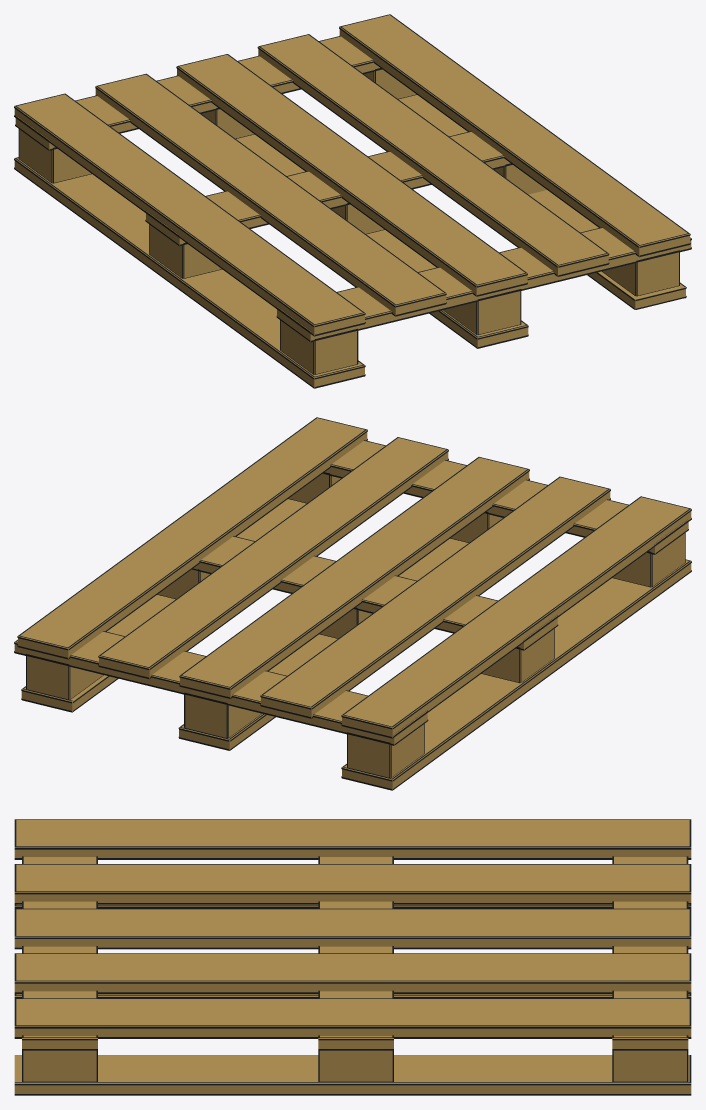
Rendered from pallet.glb.
3 renders of one model, top to bottom at view 1: azimuth 30°, elevation 25°; view 2: azimuth 150°, elevation 25°; view 3: azimuth 270°, elevation 25°, orthographic. The views are drawn at different scales.
Parts seen in each view (by area): view 1: Pallet, Pallet_StructuralInk; view 2: Pallet, Pallet_StructuralInk; view 3: Pallet, Pallet_StructuralInk.
Boxes of the visible parts, box(x1,y1,x2,y2) form: Pallet: box(14, 15, 691, 388); Pallet_StructuralInk: box(14, 14, 691, 388); Pallet: box(14, 418, 691, 789); Pallet_StructuralInk: box(14, 417, 691, 790); Pallet: box(14, 820, 691, 1093); Pallet_StructuralInk: box(14, 819, 691, 1095).
Bounding box in the file's own units: 0.8949 × 0.1424 × 1.22.
Materials: 2 (1 with a texture image).
